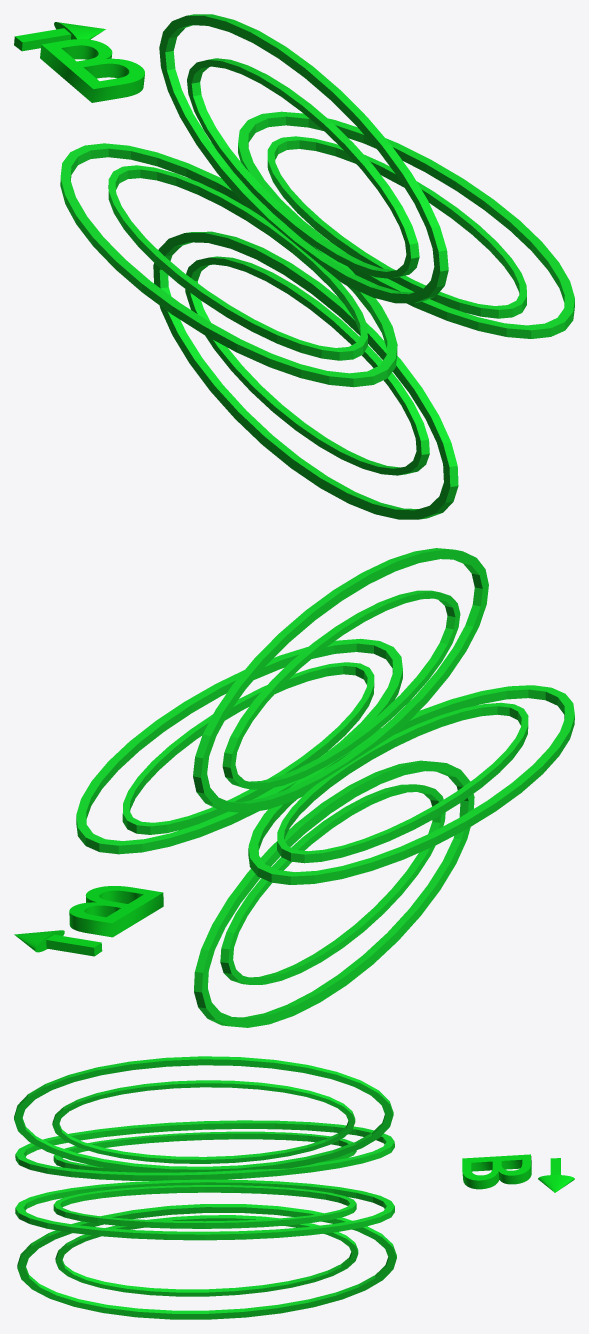
File: campo.dae
3 views of the same model, one above another, from view 1: azimuth 30°, elevation 25°; view 2: azimuth 150°, elevation 25°; view 3: azimuth 270°, elevation 25° (orthographic). The views are drawn at different scales.
Visible parts, largest first — view 1: Cono; view 2: Cono; view 3: Cono.
Part boxes in pixels (left/top/right/bottom): Cono: left=14, top=14, right=574, bottom=519; Cono: left=14, top=548, right=574, bottom=1027; Cono: left=14, top=1056, right=574, bottom=1319.
Bounding box in the file's own units: 0.6786 × 1.43 × 0.7413.
